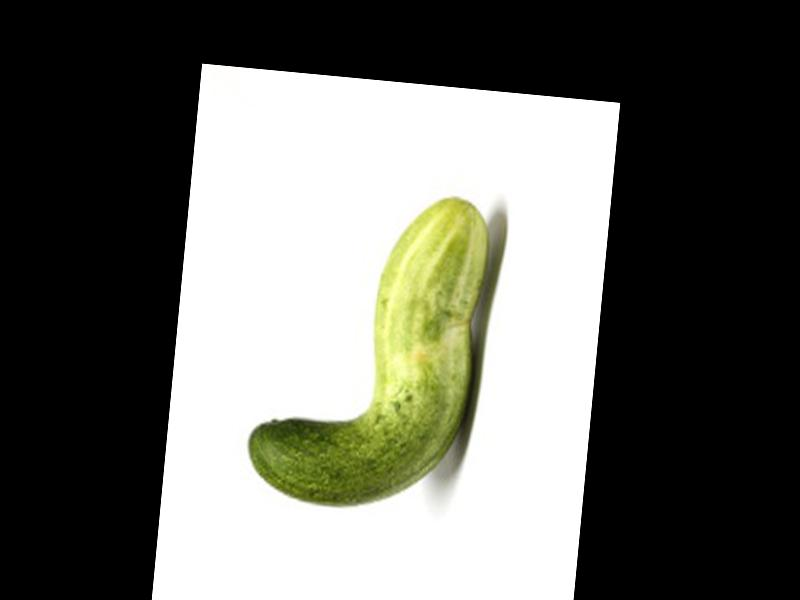Cucumber: (243, 179, 494, 519)
